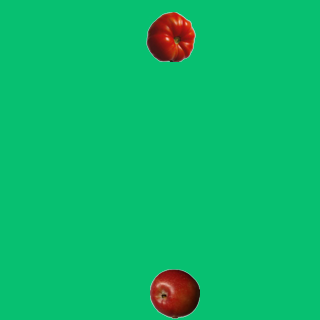Apple Braeburn: (149, 268, 199, 318)
Tomato 3: (145, 11, 195, 61)
